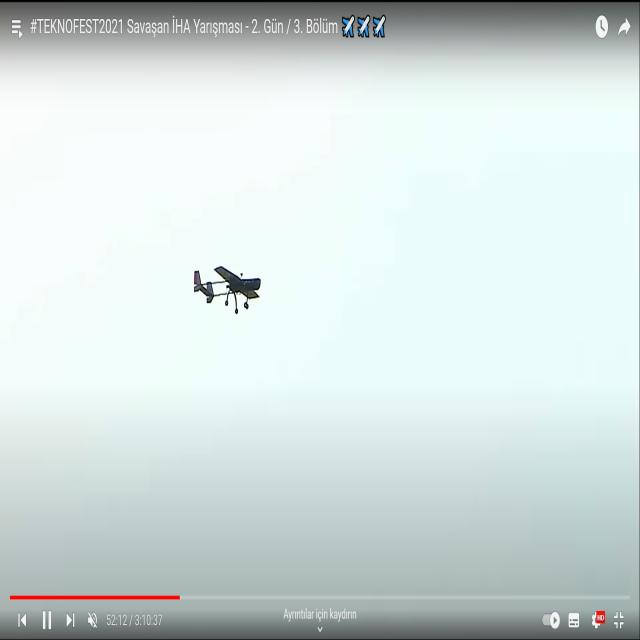iha: (225, 263, 230, 314)
